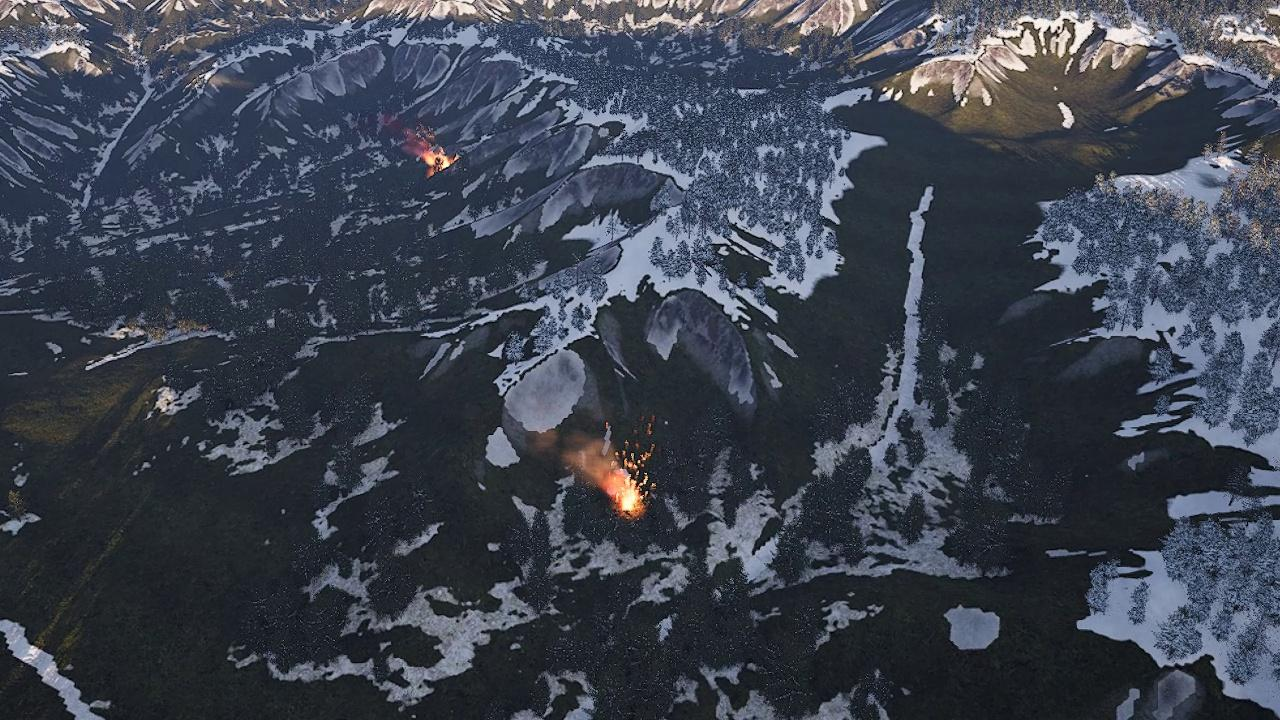fire: (606, 468, 649, 517), (422, 150, 453, 175)
smoke: (535, 430, 618, 486), (382, 113, 438, 157)
